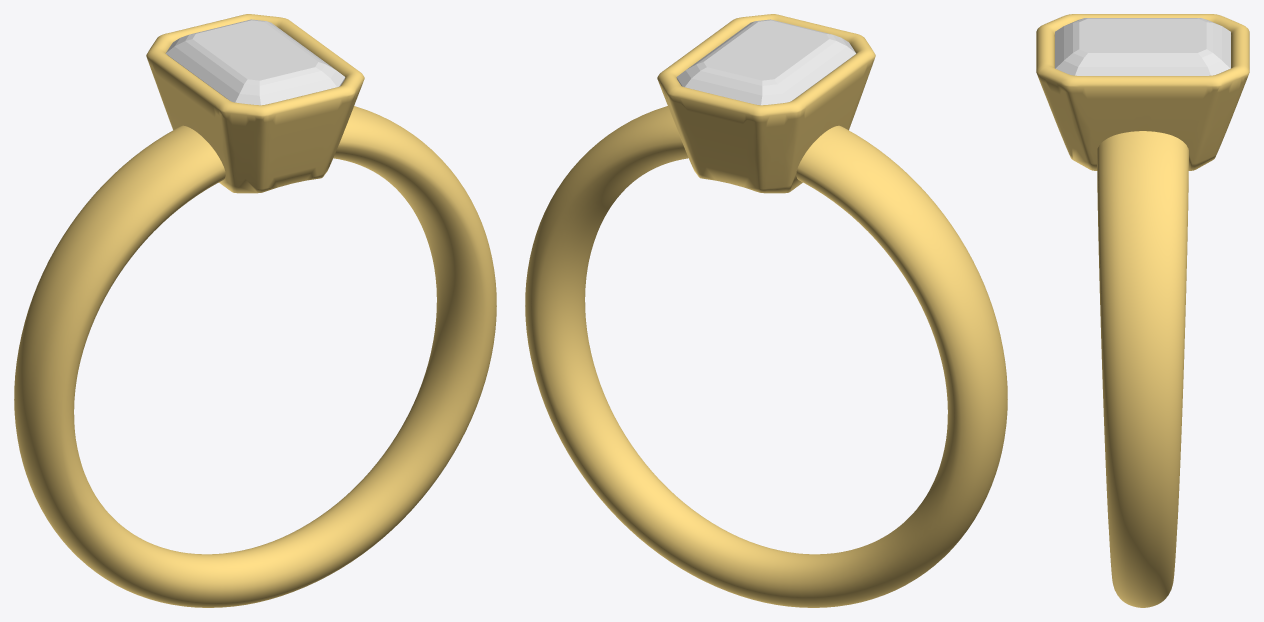
File: diamond-emerald-yellowgold-bezelset-taperedband-solitaire.glb
3 views of the same model, side by side, from view 1: azimuth 30°, elevation 25°; view 2: azimuth 150°, elevation 25°; view 3: azimuth 270°, elevation 25° (orthographic).
Parts seen in each view (by area): view 1: metal.001, stone; view 2: metal.001, stone; view 3: metal.001, stone.
Boxes of the visible parts, x1,y1,x2,y2 form: metal.001: (14, 14, 496, 607); stone: (165, 19, 345, 105); metal.001: (525, 14, 1007, 607); stone: (676, 19, 856, 105); metal.001: (1036, 14, 1249, 607); stone: (1055, 18, 1230, 75).
Bounding box in the file's own units: 20.5 × 22.94 × 8.11.
